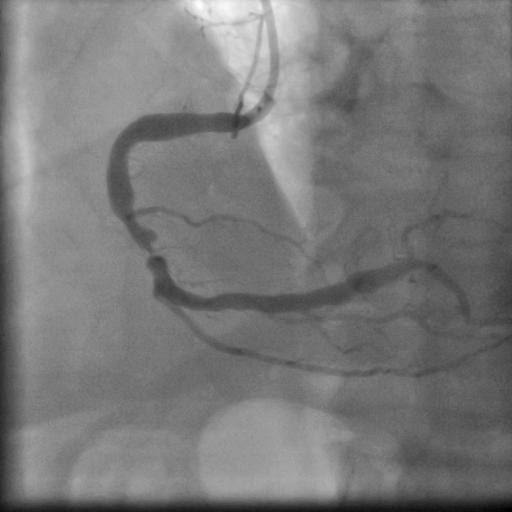Stenosis: (124, 226, 170, 265)
